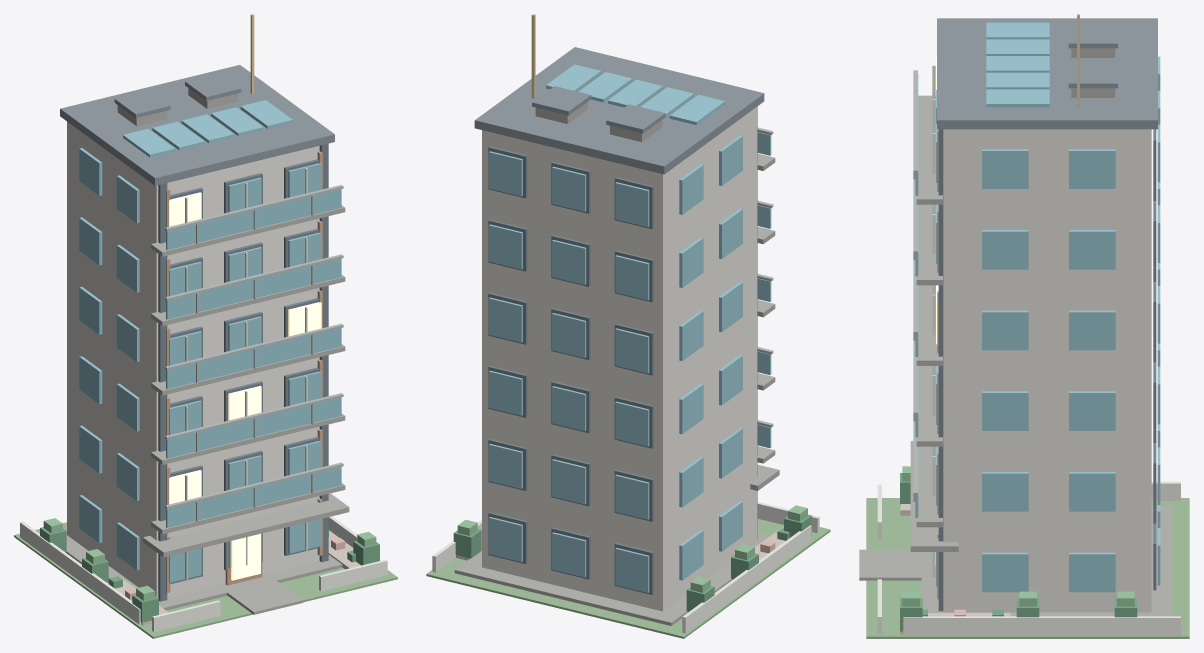
The model's file is building-e.gltf.
3 views of the same model, side by side, from view 1: azimuth 30°, elevation 25°; view 2: azimuth 150°, elevation 25°; view 3: azimuth 270°, elevation 25° (orthographic). The views are drawn at different scales.
Parts seen in each view (by area): view 1: Wall, BlueGlass, Stone, DarkRoof, Dark, White, Metal, WarmWindow, Grass, TreeLeaf, Wood, LeafLight (+1 smaller); view 2: Wall, BlueGlass, DarkRoof, Dark, Stone, Grass, White, TreeLeaf, LeafLight; view 3: Wall, BlueGlass, DarkRoof, Stone, White, Grass, Dark, Metal, TreeLeaf, LeafLight, Wood.
Part boxes in pixels (left/top/right/bottom): Wall: left=67, top=121, right=319, bottom=597; BlueGlass: left=79, top=100, right=341, bottom=582; Stone: left=63, top=88, right=349, bottom=614; DarkRoof: left=60, top=65, right=334, bottom=185; Dark: left=158, top=143, right=328, bottom=601; White: left=20, top=168, right=387, bottom=631; Metal: left=165, top=185, right=343, bottom=521; WarmWindow: left=169, top=192, right=321, bottom=580; Grass: left=14, top=522, right=397, bottom=638; TreeLeaf: left=40, top=527, right=379, bottom=622; Wood: left=166, top=151, right=322, bottom=592; LeafLight: left=43, top=518, right=376, bottom=600; Wall: left=482, top=107, right=757, bottom=611; BlueGlass: left=488, top=64, right=771, bottom=592; DarkRoof: left=474, top=47, right=764, bottom=174; Dark: left=488, top=106, right=757, bottom=594; Stone: left=454, top=102, right=779, bottom=625; Grass: left=426, top=519, right=830, bottom=638; White: left=432, top=502, right=819, bottom=633; TreeLeaf: left=453, top=514, right=811, bottom=611; LeafLight: left=457, top=505, right=807, bottom=592; Wall: left=943, top=129, right=1151, bottom=612; BlueGlass: left=915, top=22, right=1160, bottom=592; DarkRoof: left=937, top=18, right=1157, bottom=129; Stone: left=859, top=48, right=1172, bottom=616; White: left=877, top=65, right=1180, bottom=635; Grass: left=866, top=498, right=1189, bottom=638; Dark: left=938, top=129, right=1156, bottom=611; Metal: left=913, top=70, right=917, bottom=501; TreeLeaf: left=900, top=473, right=1137, bottom=631; LeafLight: left=902, top=466, right=1134, bottom=606; Wood: left=937, top=129, right=938, bottom=599.
Size of the model in its own units: 10.4 by 20.75 by 10.47.
